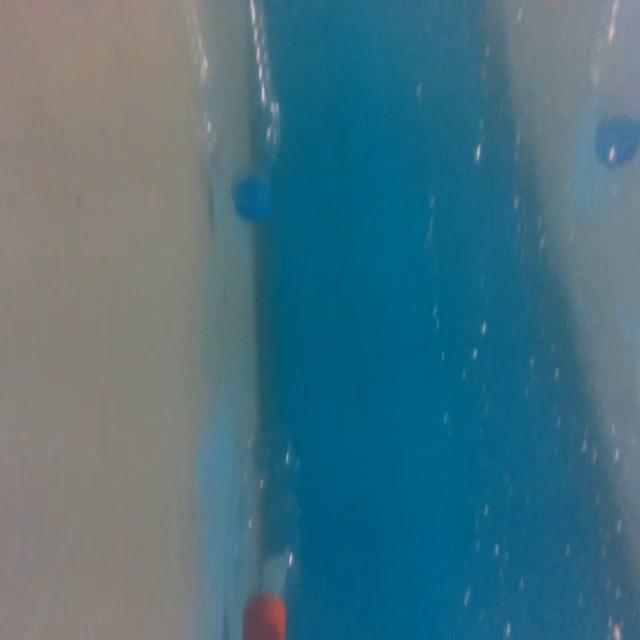plastic bottle: (169, 3, 289, 230), (234, 422, 308, 640)
